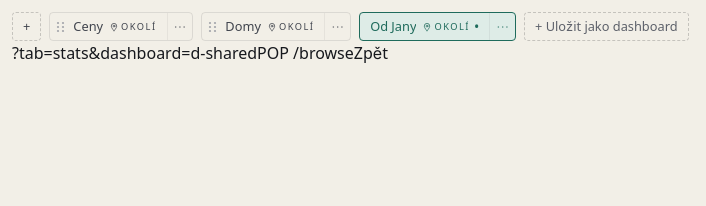
it: <DashboardBar> the list › points a dirty shared chip at "Uložit jako vlastní", never at an update it does not offer
Expected: the text titled "Uložit jako vlastní" is shown, left=474, top=20, right=479, bottom=34
Click the button named "Možnosti dashboardu: Od Jany — sdílí jana@example.com".
click(502, 27)  # box left=489, top=13, right=515, bottom=40
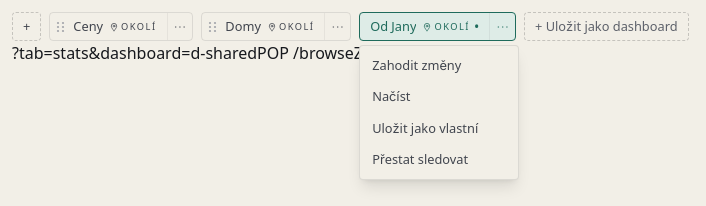
Now the menu item "Zahodit změny" is shown, box left=360, top=50, right=518, bottom=81
